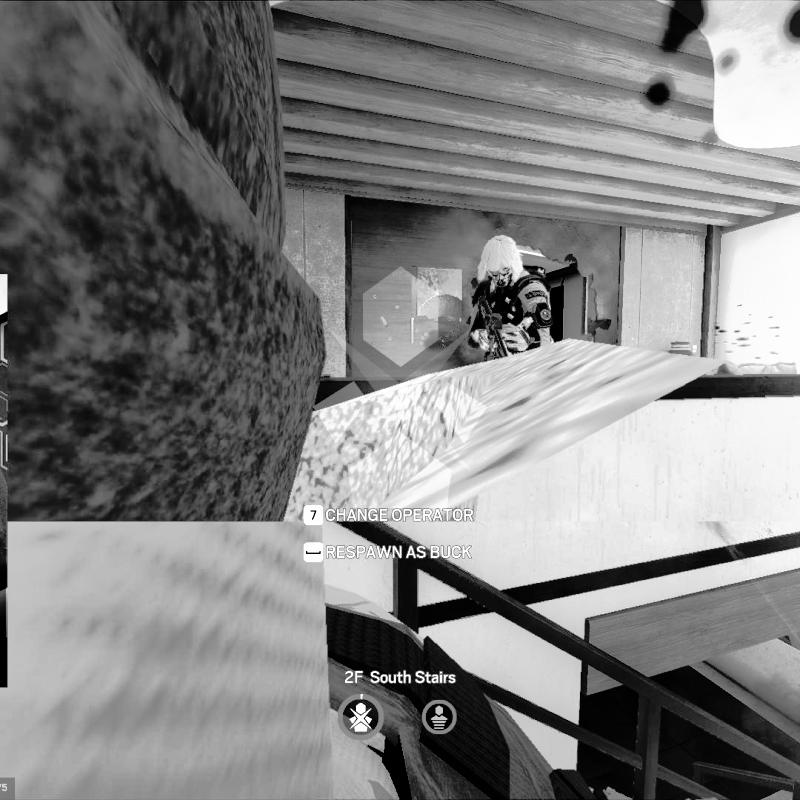Character: (465, 235, 554, 360)
Head: (476, 235, 526, 289)
